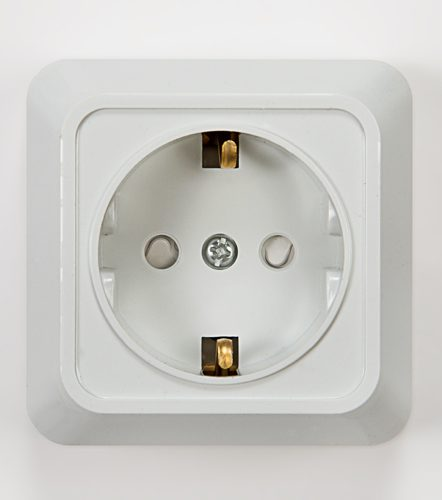raccoon: (90, 126, 353, 385)
